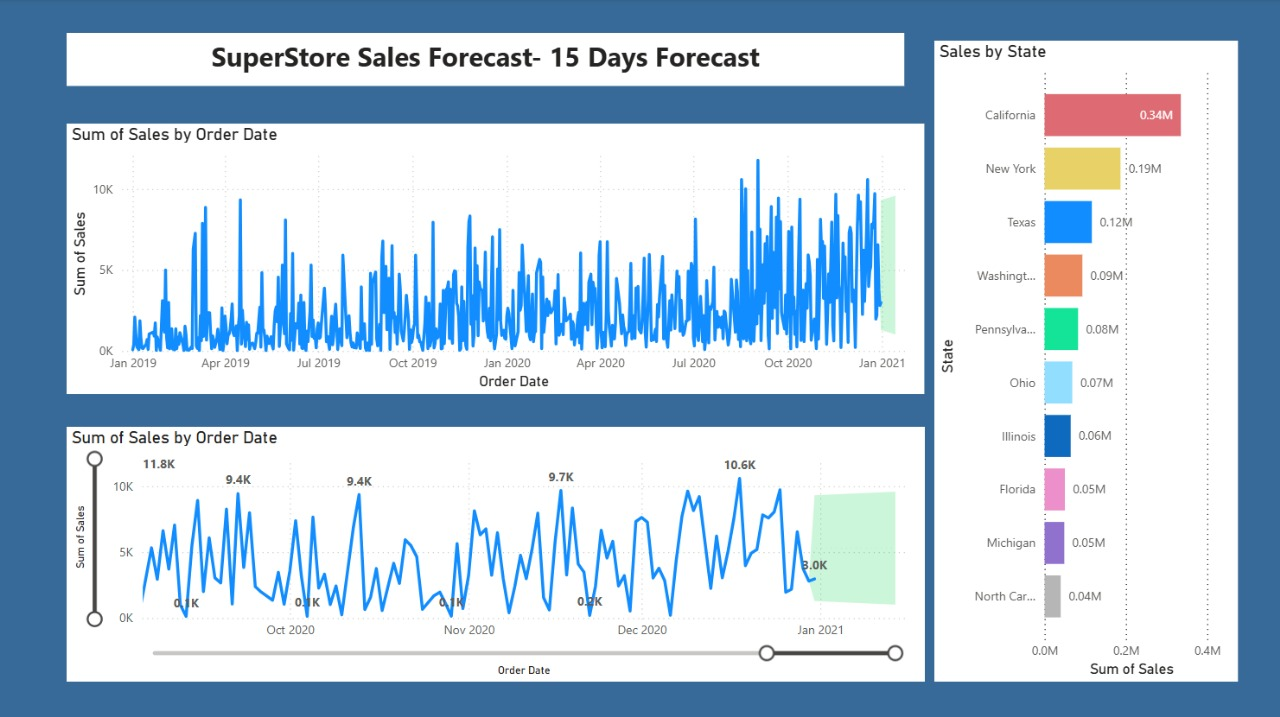

Layout of this report page (visuals, bound fields, positions):
{"tool":"powerbi","page":{"name":"Page 2","canvas":[1280,720],"ordinal":1},"visuals":[{"type":"lineChart","fields":{"Y":["Sum(SuperStore_Sales_Dataset.Sales)"],"Category":["SuperStore_Sales_Dataset.Order Date"]},"box":[66,124,856,270],"z":0},{"type":"lineChart","fields":{"Y":["Sum(SuperStore_Sales_Dataset.Sales)"],"Category":["SuperStore_Sales_Dataset.Order Date"]},"box":[66,427,856,254],"z":1000},{"type":"clusteredBarChart","title":"Sales by State","fields":{"Y":["Sum(SuperStore_Sales_Dataset.Sales)"],"Category":["SuperStore_Sales_Dataset.State"]},"box":[932,41,303,640],"z":2000},{"type":"textbox","box":[66,34,836,53],"z":3000}]}

Visuals, with their boxes in screenshot pixels (x1, y1, x2, y2), scaled from the page's 1280x720 canvas onto the 1280x717 screenshot:
lineChart - Sum(SuperStore_Sales_Dataset.Sales) x SuperStore_Sales_Dataset.Order Date: locate(66, 123, 922, 392)
lineChart - Sum(SuperStore_Sales_Dataset.Sales) x SuperStore_Sales_Dataset.Order Date: locate(66, 425, 922, 678)
"Sales by State" clusteredBarChart: locate(932, 41, 1235, 678)
textbox: locate(66, 34, 902, 87)
